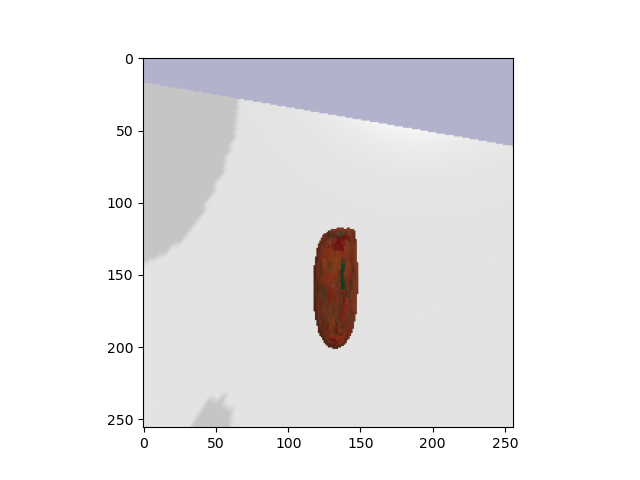v249b387_106: (304, 224, 372, 356)
